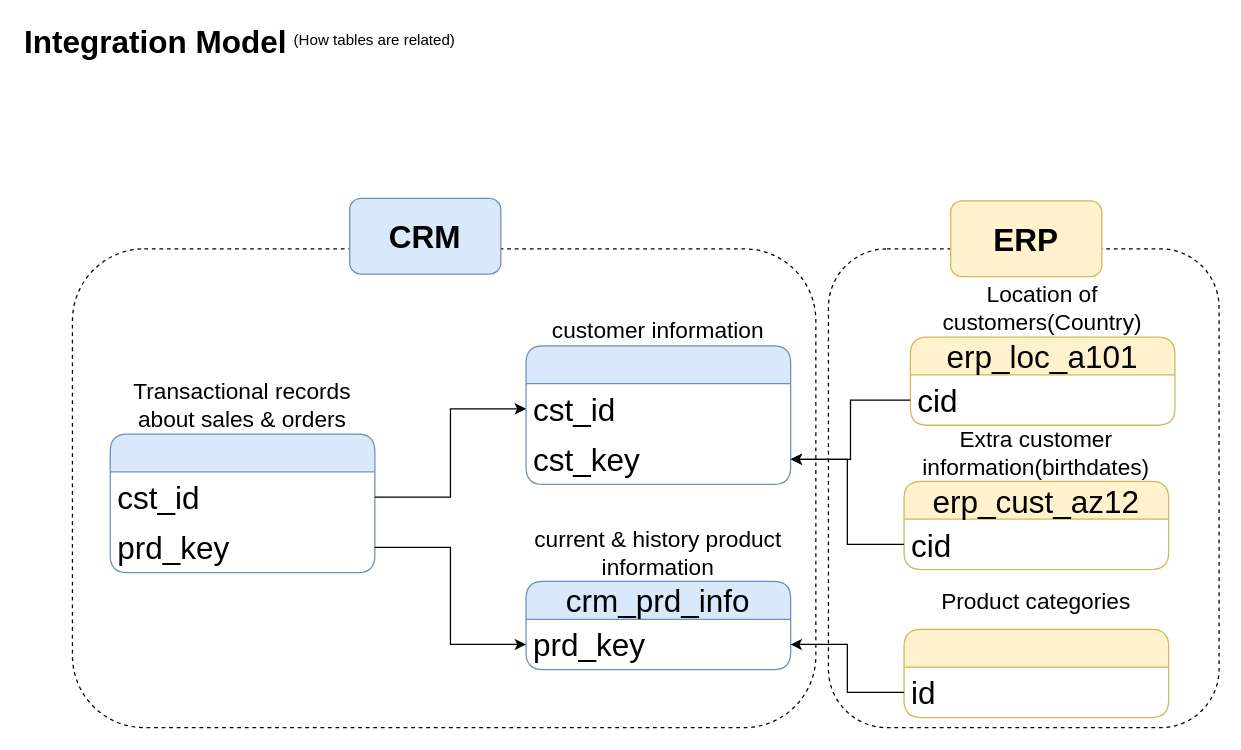
The diagram is 1241 pixels wide and 750 high, and some of its shapes have lost their labels. Each missing label, with the box of its shape:
crm_cust_info: (525, 345, 791, 484)
crm_sales_details: (109, 433, 375, 573)
erp_px_cat_g1v2: (903, 628, 1169, 718)
